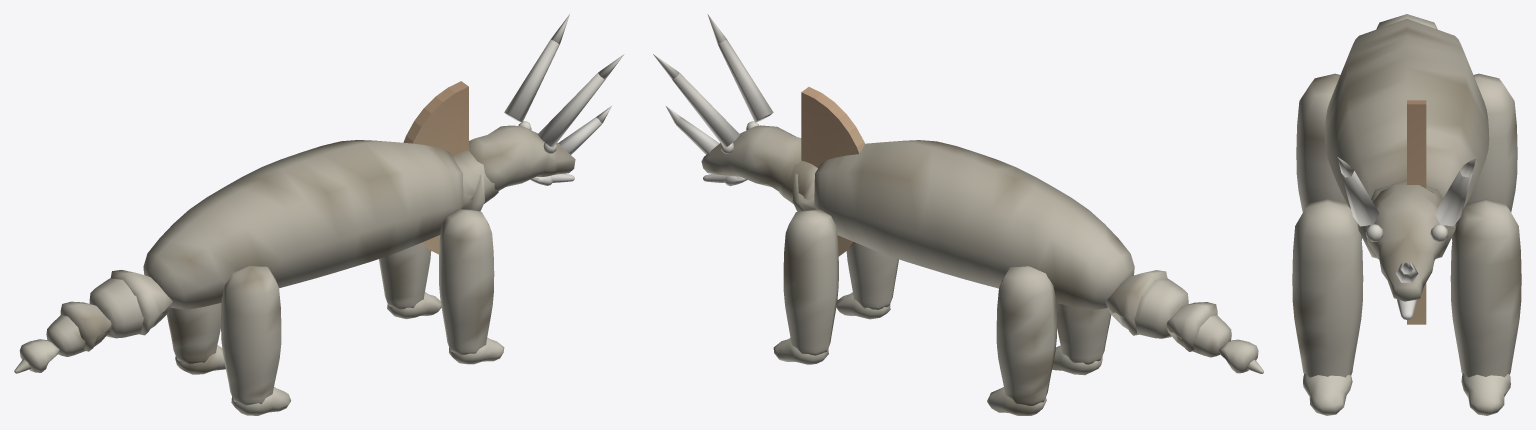
File: trike.glb
3 renders of one model, left to right at view 1: azimuth 30°, elevation 25°; view 2: azimuth 150°, elevation 25°; view 3: azimuth 270°, elevation 25°, orthographic. The views are drawn at different scales.
Parts seen in each view (by area): view 1: bodym, legmBR, legmFR, headm, tailm1, frillm, legmBL, legmFL, tailm2, hornmL, hornmR, neckm (+6 smaller); view 2: bodym, legmBL, legmFL, headm, tailm1, frillm, legmBR, legmFR, tailm2, hornmR, hornmL, neckm (+6 smaller); view 3: bodym, legmFR, legmFL, headm, legmBL, legmBR, frillm, footmFL, footmFR, hornmL, hornmR, neckm (+5 smaller).
Part boxes in pixels (box(x1,y1,x2,y2)): bodym: box(143, 140, 463, 309); legmBR: box(221, 266, 281, 405); legmFR: box(439, 209, 494, 355); headm: box(469, 125, 575, 190); tailm1: box(89, 270, 172, 338); frillm: box(403, 81, 468, 254); legmBL: box(167, 303, 221, 364); legmFL: box(379, 243, 431, 309); tailm2: box(46, 301, 111, 356); hornmL: box(504, 14, 569, 122); hornmR: box(537, 54, 624, 147); neckm: box(453, 150, 498, 211); bodym: box(814, 140, 1134, 310); legmBL: box(996, 266, 1056, 405); legmFL: box(783, 209, 838, 355); headm: box(701, 125, 801, 191); tailm1: box(1105, 270, 1188, 338); frillm: box(801, 87, 864, 256); legmBR: box(1056, 303, 1111, 364); legmFR: box(846, 243, 898, 309); tailm2: box(1166, 302, 1231, 357); hornmR: box(707, 14, 773, 122); hornmL: box(653, 54, 739, 147); neckm: box(779, 160, 817, 211); bodym: box(1324, 19, 1489, 208); legmFR: box(1292, 199, 1363, 377); legmFL: box(1450, 199, 1521, 377); headm: box(1367, 184, 1446, 301); legmBL: box(1451, 73, 1517, 240); legmBR: box(1296, 73, 1362, 240); frillm: box(1407, 100, 1426, 324); footmFL: box(1461, 373, 1510, 415); footmFR: box(1303, 373, 1352, 415); hornmL: box(1434, 157, 1476, 226); hornmR: box(1337, 157, 1379, 226); neckm: box(1357, 179, 1456, 258).
Size of the model in its own units: 7.31 by 3.16 by 1.91.
